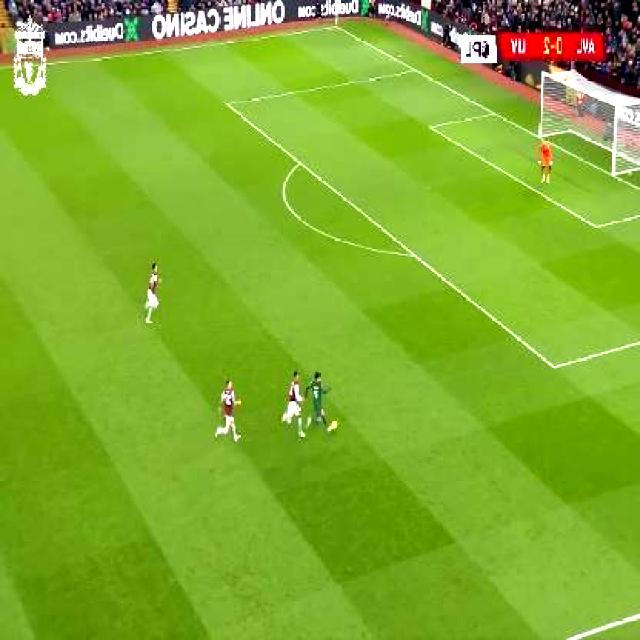bigarea_bottom_inner: (546, 352, 565, 378)
bigarea_top_inner: (222, 92, 236, 112)
bigarea_top_outter: (409, 60, 423, 77)
bottom_arc_area_intersection: (406, 243, 422, 263)
corner: (328, 18, 344, 32)
smallarea_bottom_inner: (588, 212, 606, 237)
smallarea_top_inner: (425, 117, 440, 135)
smallarea_top_outter: (488, 103, 503, 122)
top_arc_area_intersection: (294, 152, 309, 171)
